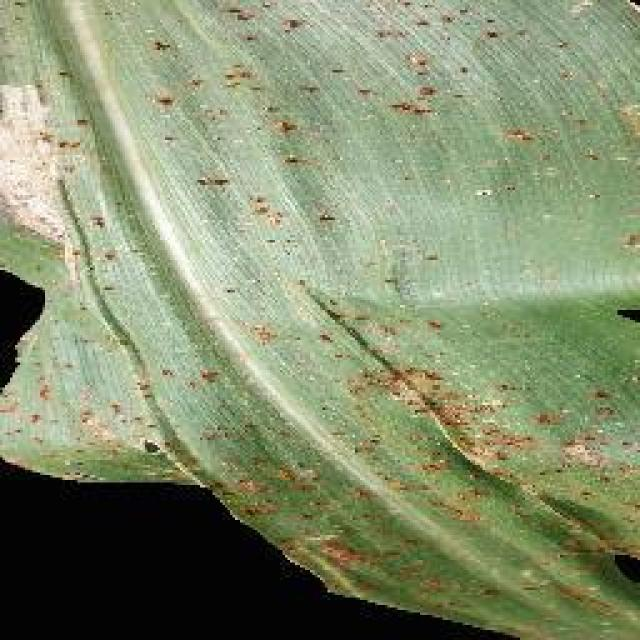Corn Common Rust: (82, 15, 640, 637)
